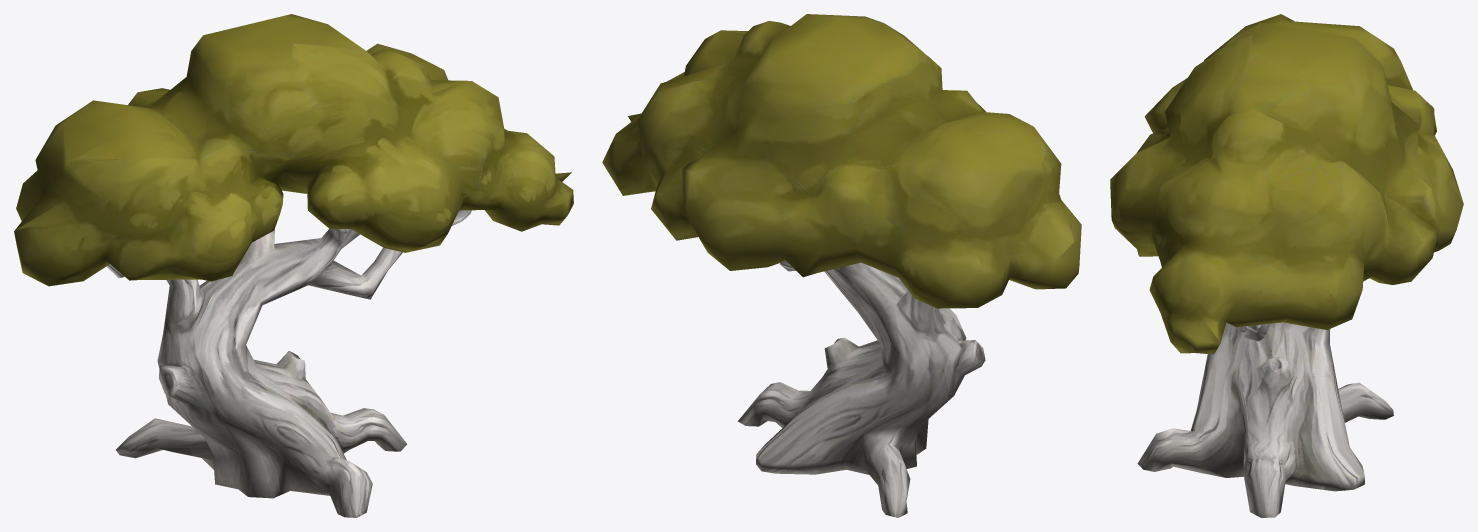
File: tree2.glb
3 views of the same model, side by side, from view 1: azimuth 30°, elevation 25°; view 2: azimuth 150°, elevation 25°; view 3: azimuth 270°, elevation 25° (orthographic). The views are drawn at different scales.
Bounding box in the file's own units: 1.22 × 1 × 0.7512.
1 material, 1 textured.
